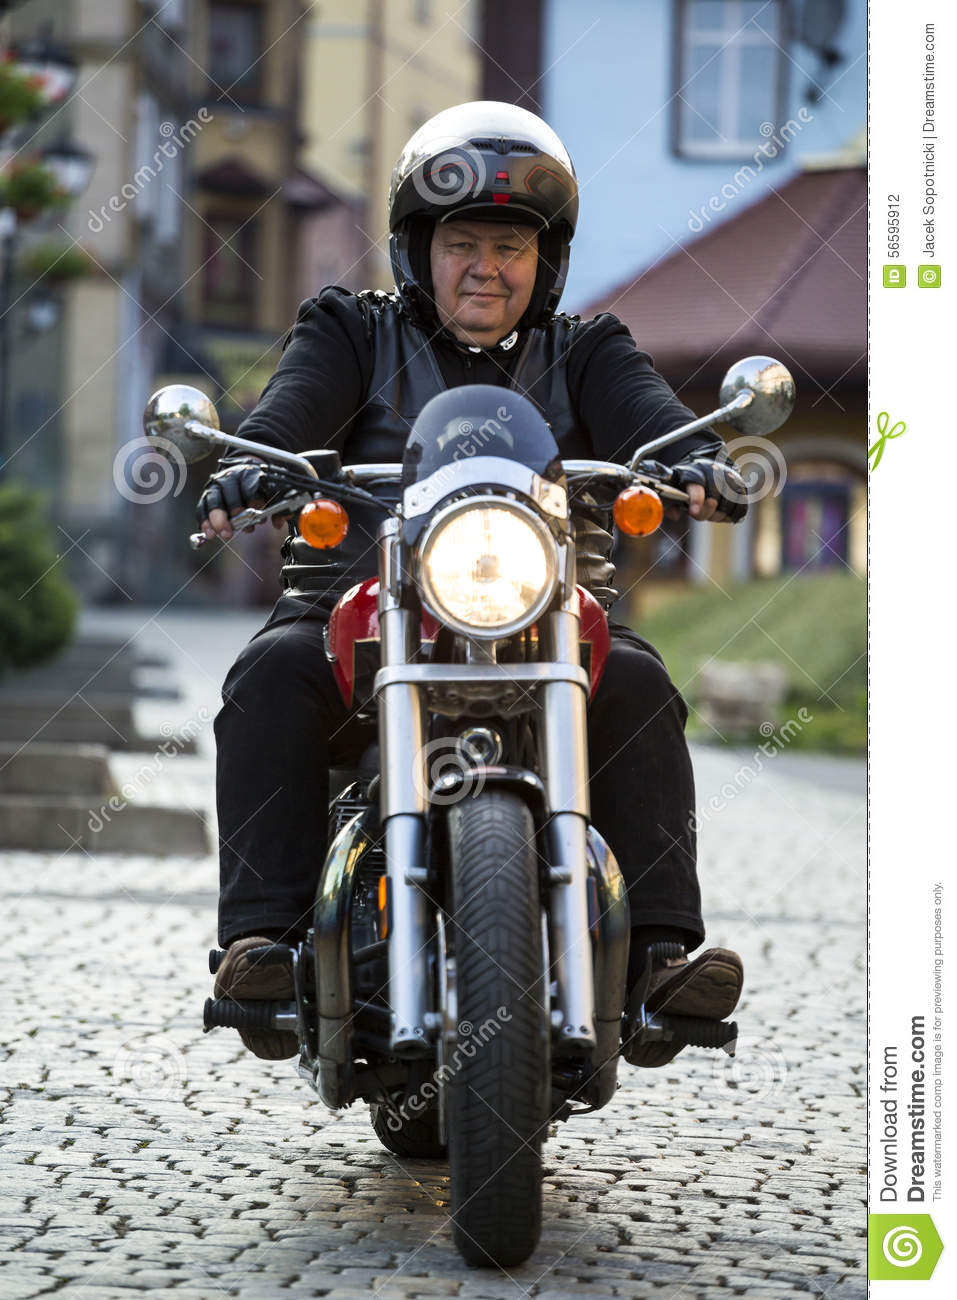helmet: (374, 111, 592, 305)
